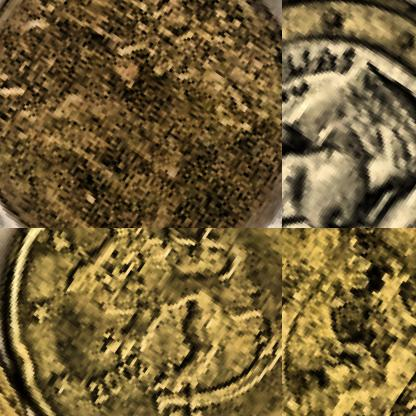coin: (0, 0, 281, 227), (0, 228, 281, 415), (282, 0, 415, 227), (282, 228, 415, 415)
